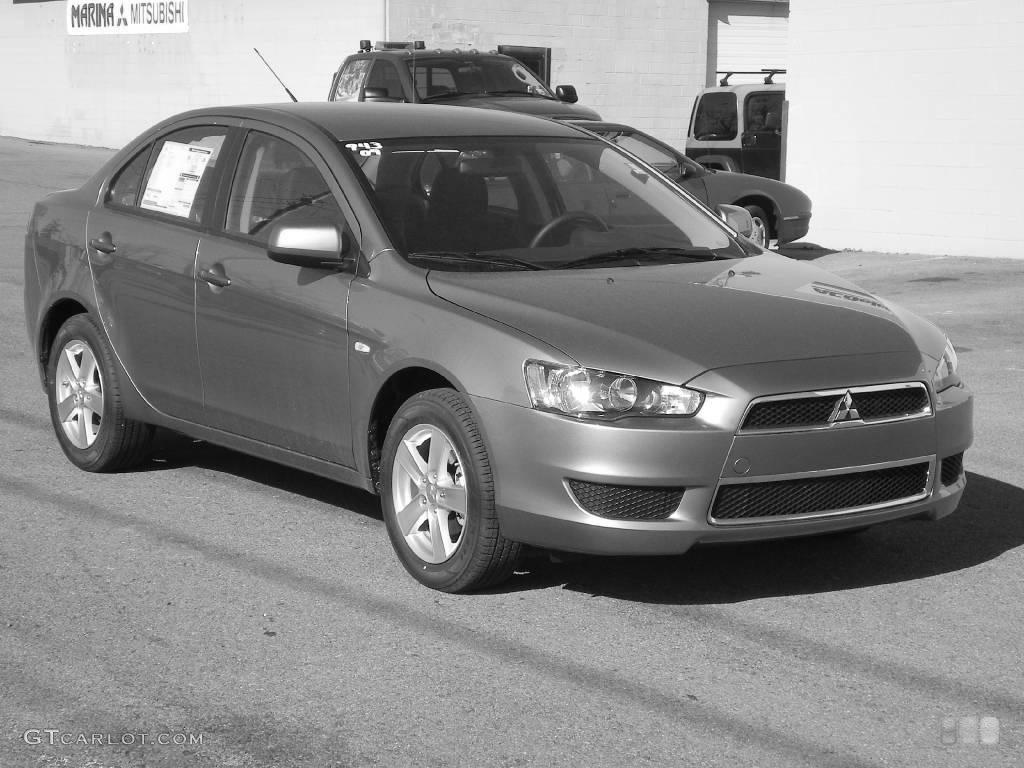car: (18, 45, 980, 596)
